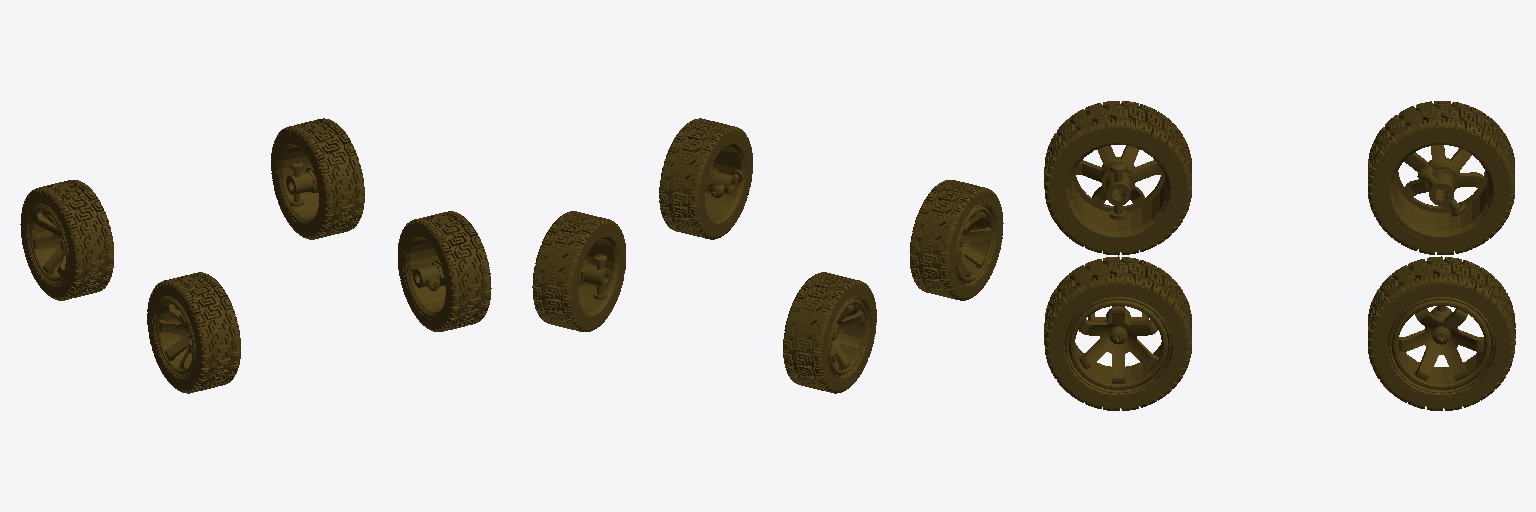
The robot description file, URDF, robot "catbot":
<robot name="catbot">

  <link name="base_link"></link>

  <joint name="base_link_to_base" type="fixed">
    <parent link="base_link" />
    <child link="still_chassis_assm" />
    <origin rpy="0.0 0 0" xyz="0 0 0" />
  </joint>

  <link name="still_chassis_assm">
    <visual>
      <origin xyz="0 0 0" rpy="0 -0 0" />
      <geometry>
        <mesh filename="package://catbot_description/meshes/visual/still_chassis_assm_visual.stl" />
      </geometry>
      <material name="still_chassis_assm_material">
        <color rgba="0.66987717125153900533 0.81712318213796708566 0.66602980483018836555 1.0" />
      </material>
    </visual>
    <collision>
      <origin xyz="0 0 0" rpy="0 -0 0" />
      <geometry>
        <mesh filename="package://catbot_description/meshes/collision/still_chassis_assm_collision.stl" />
      </geometry>
    </collision>
    <inertial>
      <origin xyz="0.00027961412402240977014 0.0046876789374875839009 -0.0054409557585405705568"
      rpy="0 0 0" />
      <mass value="1.0156681416365394011" />
      <inertia ixx="0.0065127126032337098738"
      ixy="1.5566438777542365468e-07"
      ixz="3.6708728527239328719e-06"
      iyy="0.0025991819436423468752"
      iyz="6.1954470337197489749e-05"
      izz="0.0071648278899316356766" />
    </inertial>
  </link>

  <link name="wheel_assm">
    <visual>
      <origin xyz="0 0 0" rpy="0 -0 0" />
      <geometry>
        <mesh filename="package://catbot_description/meshes/visual/wheel_assm_visual.stl" />
      </geometry>
      <material name="wheel_assm_material">
        <color rgba="0.34876043041436377568 0.28454440741211711741 0.12249285133838178075 1.0" />
      </material>
    </visual>
    <collision>
      <origin xyz="0 0 0" rpy="0 -0 0" />
      <geometry>
        <mesh filename="package://catbot_description/meshes/collision/wheel_assm_collision.stl" />
      </geometry>
    </collision>
    <inertial>
      <origin xyz="2.5876683231912983522e-09 -2.5321947387836322962e-09 -0.0043217676979120578026"
      rpy="0 0 0" />
      <mass value="0.054377782220193432439" />
      <inertia ixx="1.7947780629583350172e-05"
      ixy="-3.8234084814183779999e-12"
      ixz="-1.6934852918263056535e-12"
      iyy="1.7621269066491265109e-05"
      iyz="-2.0136050751311128972e-12"
      izz="2.8213568549230894094e-05" />
    </inertial>
  </link>

  <joint name="rr_wheel" type="revolute">
    <origin xyz="-0.077614131532514007983 0.080478921592024327269 -0.030500000000000013212"
    rpy="-1.570796326794896558 0.67540343776289657463 -1.5707963267948956698" />
    <parent link="still_chassis_assm" />
    <child link="wheel_assm" />
    <axis xyz="0 0 1" />
    <limit effort="1" velocity="20" />
    <joint_properties friction="0.0" />
  </joint>

  <link name="wheel_assm_2">
    <visual>
      <origin xyz="0 0 0" rpy="0 -0 0" />
      <geometry>
        <mesh filename="package://catbot_description/meshes/visual/wheel_assm_2_visual.stl" />
      </geometry>
      <material name="wheel_assm_2_material">
        <color rgba="0.34876043041436377568 0.28454440741211711741 0.12249285133838178075 1.0" />
      </material>
    </visual>
    <collision>
      <origin xyz="0 0 0" rpy="0 -0 0" />
      <geometry>
        <mesh filename="package://catbot_description/meshes/collision/wheel_assm_2_collision.stl" />
      </geometry>
    </collision>
    <inertial>
      <origin xyz="2.5876683436570912888e-09 -2.5321947882875150234e-09 -0.0043217676979120907624"
      rpy="0 0 0" />
      <mass value="0.054377782220193432439" />
      <inertia ixx="1.7947780629583373889e-05"
      ixy="-3.8234084806256659389e-12"
      ixz="-1.6934852952780513878e-12"
      iyy="1.7621269066491271885e-05"
      iyz="-2.0136050702142612672e-12"
      izz="2.8213568549230904259e-05" />
    </inertial>
  </link>

  <joint name="rf_wheel" type="revolute">
    <origin xyz="-0.077614131532534658131 -0.068021078407976207081 -0.030499999999999957701"
    rpy="1.570796326794896558 5.0445758681405589749e-15 1.570796326794896336" />
    <parent link="still_chassis_assm" />
    <child link="wheel_assm_2" />
    <axis xyz="0 0 1" />
    <limit effort="1" velocity="20" />
    <joint_properties friction="0.0" />
  </joint>

  <link name="wheel_assm_3">
    <visual>
      <origin xyz="0 0 0" rpy="0 -0 0" />
      <geometry>
        <mesh filename="package://catbot_description/meshes/visual/wheel_assm_3_visual.stl" />
      </geometry>
      <material name="wheel_assm_3_material">
        <color rgba="0.34876043041436383119 0.28454440741211711741 0.12249285133838178075 1.0" />
      </material>
    </visual>
    <collision>
      <origin xyz="0 0 0" rpy="0 -0 0" />
      <geometry>
        <mesh filename="package://catbot_description/meshes/collision/wheel_assm_3_collision.stl" />
      </geometry>
    </collision>
    <inertial>
      <origin xyz="2.5876683542375088732e-09 -2.5321947930490429075e-09 -0.0043217676979121003034"
      rpy="0 0 0" />
      <mass value="0.054377782220193432439" />
      <inertia ixx="1.7947780629583373889e-05"
      ixy="-3.8234084806256627077e-12"
      ixz="-1.6934852942781941971e-12"
      iyy="1.7621269066491275274e-05"
      iyz="-2.01360506846477306e-12"
      izz="2.8213568549230904259e-05" />
    </inertial>
  </link>

  <joint name="rl_wheel" type="revolute">
    <origin xyz="0.078385868467483257871 0.080478921592024507681 -0.030500000000000044437"
    rpy="-1.570796326794896558 -5.0445758681405660746e-15 1.5707963267948970021" />
    <parent link="still_chassis_assm" />
    <child link="wheel_assm_3" />
    <axis xyz="0 0 1" />
    <limit effort="1" velocity="20" />
    <joint_properties friction="0.0" />
  </joint>

  <link name="wheel_assm_4">
    <visual>
      <origin xyz="0 0 0" rpy="0 -0 0" />
      <geometry>
        <mesh filename="package://catbot_description/meshes/visual/wheel_assm_4_visual.stl" />
      </geometry>
      <material name="wheel_assm_4_material">
        <color rgba="0.34876043041436377568 0.28454440741211711741 0.12249285133838176687 1.0" />
      </material>
    </visual>
    <collision>
      <origin xyz="0 0 0" rpy="0 -0 0" />
      <geometry>
        <mesh filename="package://catbot_description/meshes/collision/wheel_assm_4_collision.stl" />
      </geometry>
    </collision>
    <inertial>
      <origin xyz="2.5876682744584021363e-09 -2.5321945349340081079e-09 -0.0043217676979121323957"
      rpy="0 0 0" />
      <mass value="0.054377782220193432439" />
      <inertia ixx="1.7947780629583377277e-05"
      ixy="-3.8234084820191074185e-12"
      ixz="-1.6934852985237760372e-12"
      iyy="1.7621269066491275274e-05"
      iyz="-2.0136050684267663727e-12"
      izz="2.8213568549230907647e-05" />
    </inertial>
  </link>

  <joint name="fl_wheel" type="revolute">
    <origin xyz="0.078385868467507308077 -0.068021078407975985036 -0.030500000000000034028"
    rpy="-1.5707963267949118791 1.5703086100333234487 1.5707963267962468112" />
    <parent link="still_chassis_assm" />
    <child link="wheel_assm_4" />
    <axis xyz="0 0 1" />
    <limit effort="1" velocity="20" />
    <joint_properties friction="0.0" />
  </joint>
</robot>

--- Facts derived from the render (not from the file) ---
Views: 3 orthographic renders of the robot side by side, from view 1: azimuth 30°, elevation 25°; view 2: azimuth 150°, elevation 25°; view 3: azimuth 270°, elevation 25°.
Model catbot with 6 links and 5 joints (4 revolute, 1 fixed), rooted at base_link, posed all joints at 0.
Links seen in each view (by area): view 1: wheel_assm_2, wheel_assm_3, wheel_assm_4, wheel_assm; view 2: wheel_assm, wheel_assm_4, wheel_assm_3, wheel_assm_2; view 3: wheel_assm_4, wheel_assm_2, wheel_assm_3, wheel_assm.
Boxes of the visible links, bbox=[...] form: wheel_assm_2: bbox=[147, 272, 240, 393]; wheel_assm_3: bbox=[271, 118, 364, 239]; wheel_assm_4: bbox=[398, 211, 491, 331]; wheel_assm: bbox=[20, 180, 113, 300]; wheel_assm: bbox=[783, 272, 876, 393]; wheel_assm_4: bbox=[659, 118, 752, 239]; wheel_assm_3: bbox=[532, 211, 625, 331]; wheel_assm_2: bbox=[910, 180, 1003, 300]; wheel_assm_4: bbox=[1044, 256, 1191, 410]; wheel_assm_2: bbox=[1044, 101, 1191, 255]; wheel_assm_3: bbox=[1368, 256, 1515, 410]; wheel_assm: bbox=[1368, 101, 1514, 254].
Bounding box of the posed robot: 0.196 × 0.2165 × 0.068 m (x, y, z).
4 mesh visuals loaded from 5 distinct referenced files (4 binary STL); not drawn: 1 (reference not matched to a file when rendering).